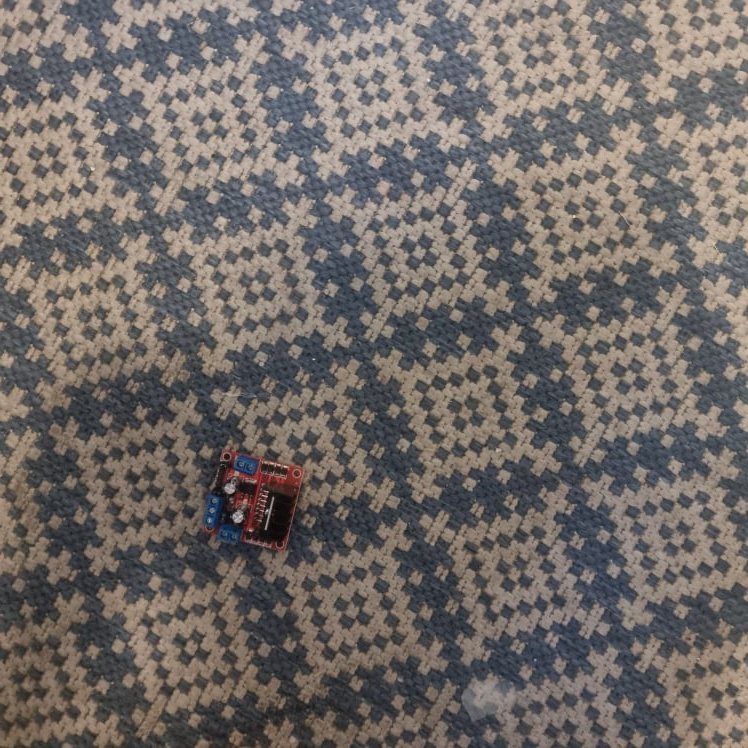MOTOR: (201, 448, 303, 557)
